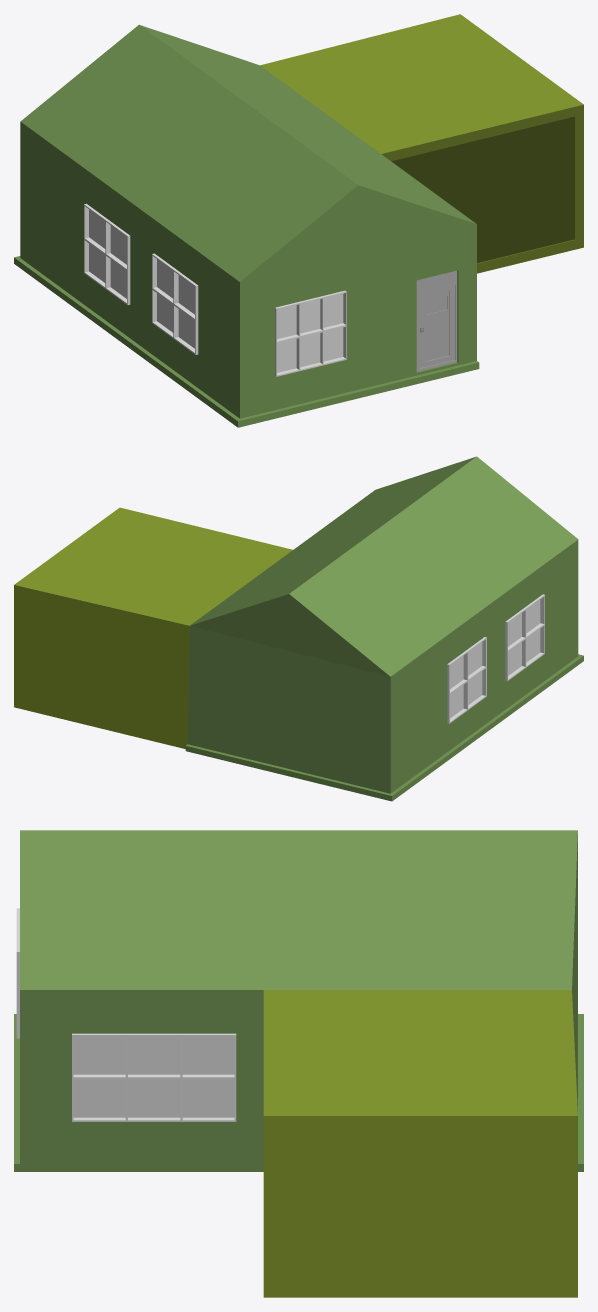
Rendered from House_22.fbx.
3 renders of one model, top to bottom at view 1: azimuth 30°, elevation 25°; view 2: azimuth 150°, elevation 25°; view 3: azimuth 270°, elevation 25°, orthographic. The views are drawn at different scales.
Visible parts, largest first — view 1: House_22_Body; view 2: House_22_Body; view 3: House_22_Body.
Part boxes in pixels (left/top/right/bottom): House_22_Body: left=14, top=14, right=583, bottom=427; House_22_Body: left=14, top=456, right=583, bottom=801; House_22_Body: left=14, top=830, right=583, bottom=1297.
Size of the model in its own units: 1267 by 575 by 1108.
